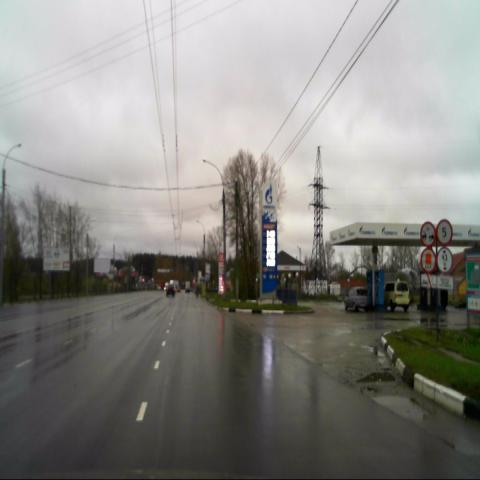3_16: (421, 217, 437, 249)
3_32: (421, 247, 437, 275)
